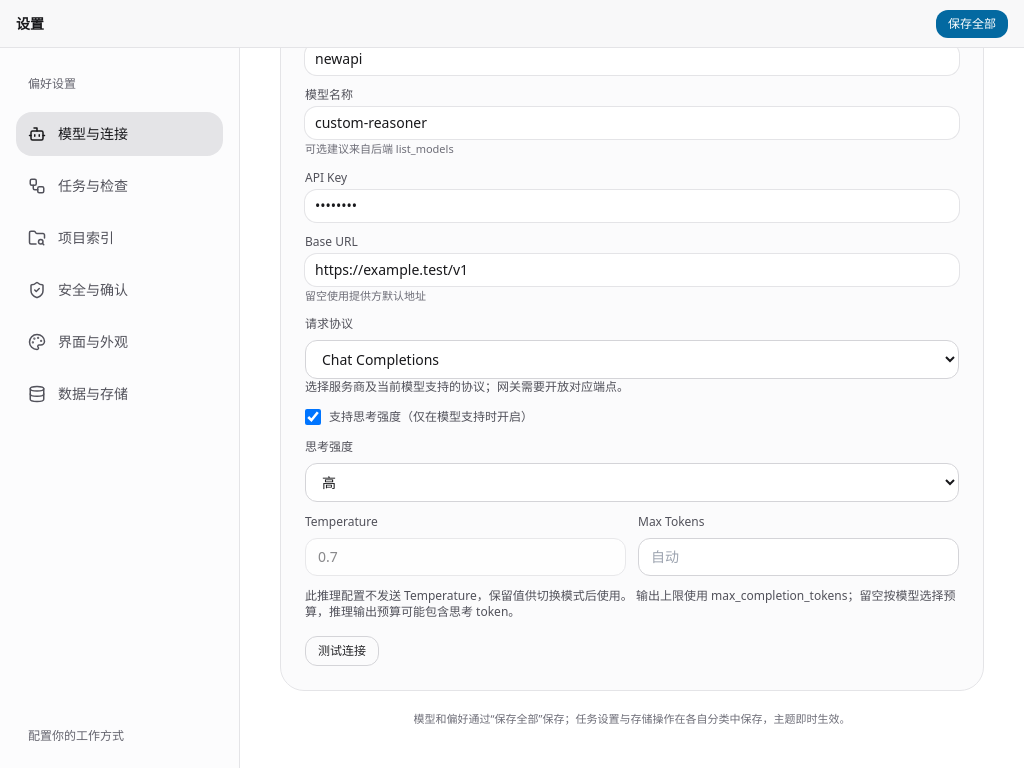
Test: model settings across both entry points › keeps the previous persisted configuration when saving fails
The image size is (1024, 768).
(page scrolled)
Expected: the button "保存全部" is enabled, [936,10,1008,38]
Type "9000" into the number field labelled "Max Tokens" at {"x": 798, "y": 557}, box [638,538,959,576]
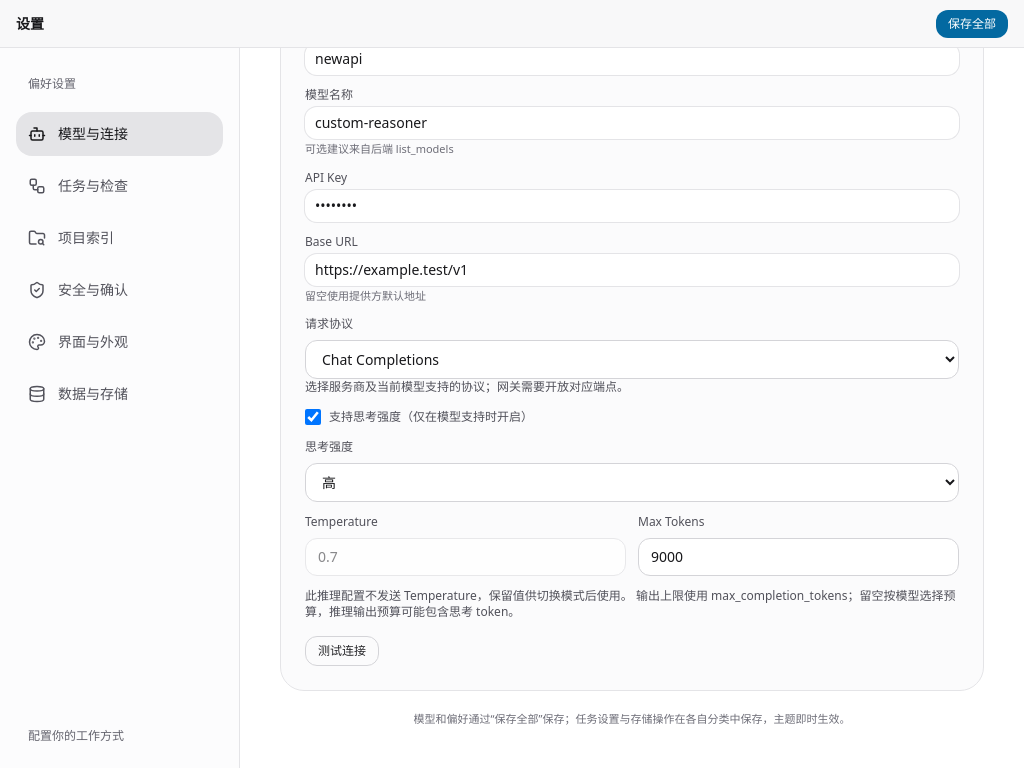
Click the button "保存全部" at {"x": 972, "y": 24}, box [936,10,1008,38]
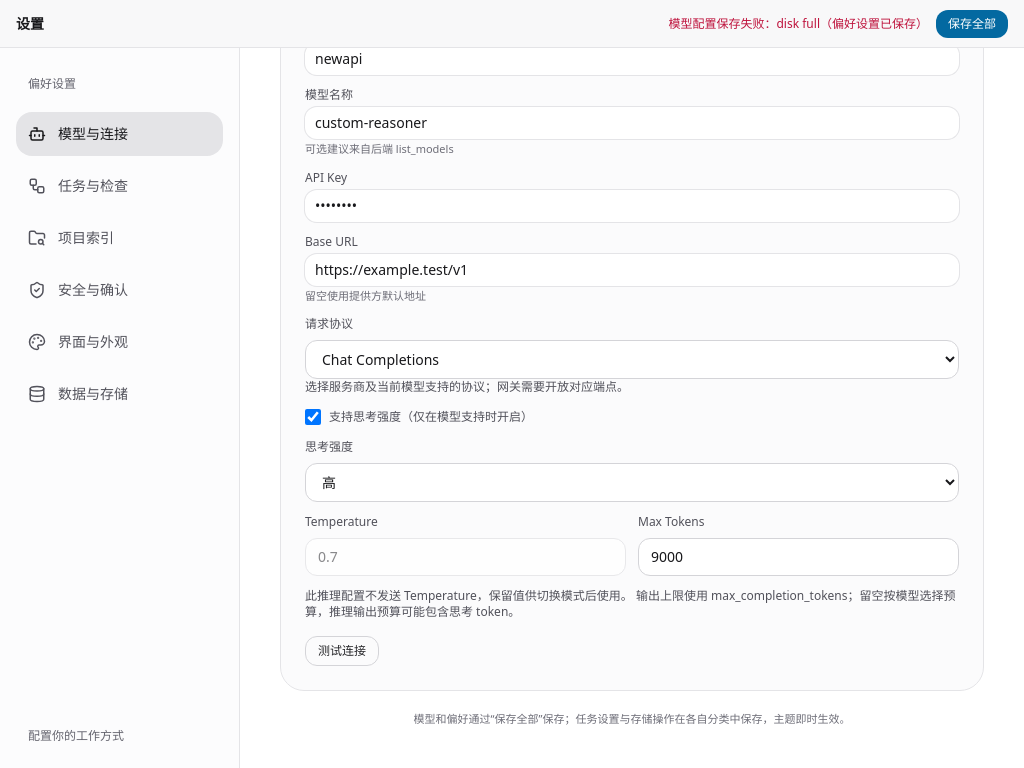
Now the text "模型配置保存失败：disk full（偏好设置已保存）" is shown, box [668,16,928,32]
